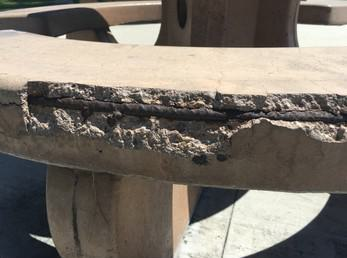Exposed reinforcement: (26, 95, 347, 123)
Spalling: (18, 80, 347, 159)
